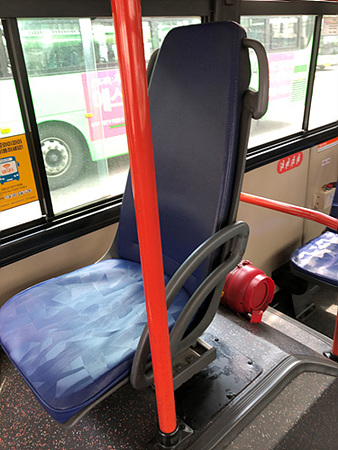seat: (8, 20, 249, 398)
